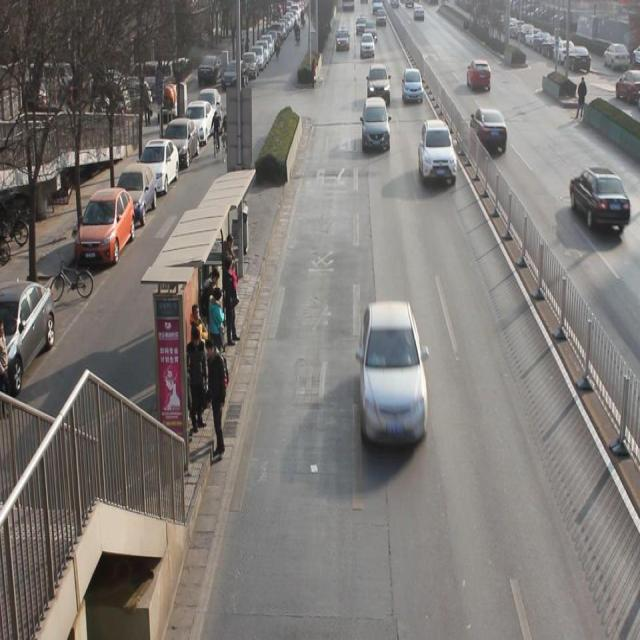car: (358, 302, 429, 452), (571, 166, 629, 236), (418, 120, 457, 189), (470, 110, 509, 154), (360, 101, 390, 153), (368, 65, 392, 104), (402, 68, 425, 107), (466, 61, 492, 92), (335, 27, 351, 56), (359, 34, 376, 60)
